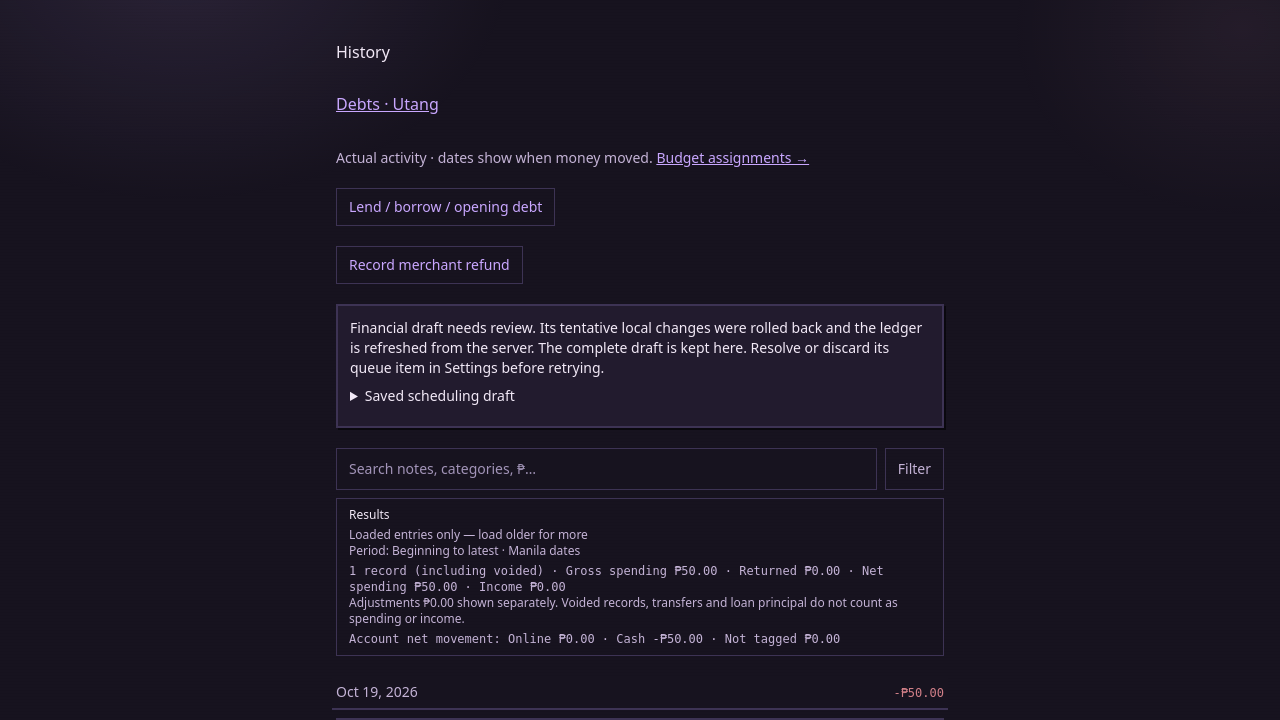
Test: keeps a rejected schedule-only draft reviewable after rollback
Click the heading "Saved scheduling draft". click: (440,396)
box: [365,386,515,405]
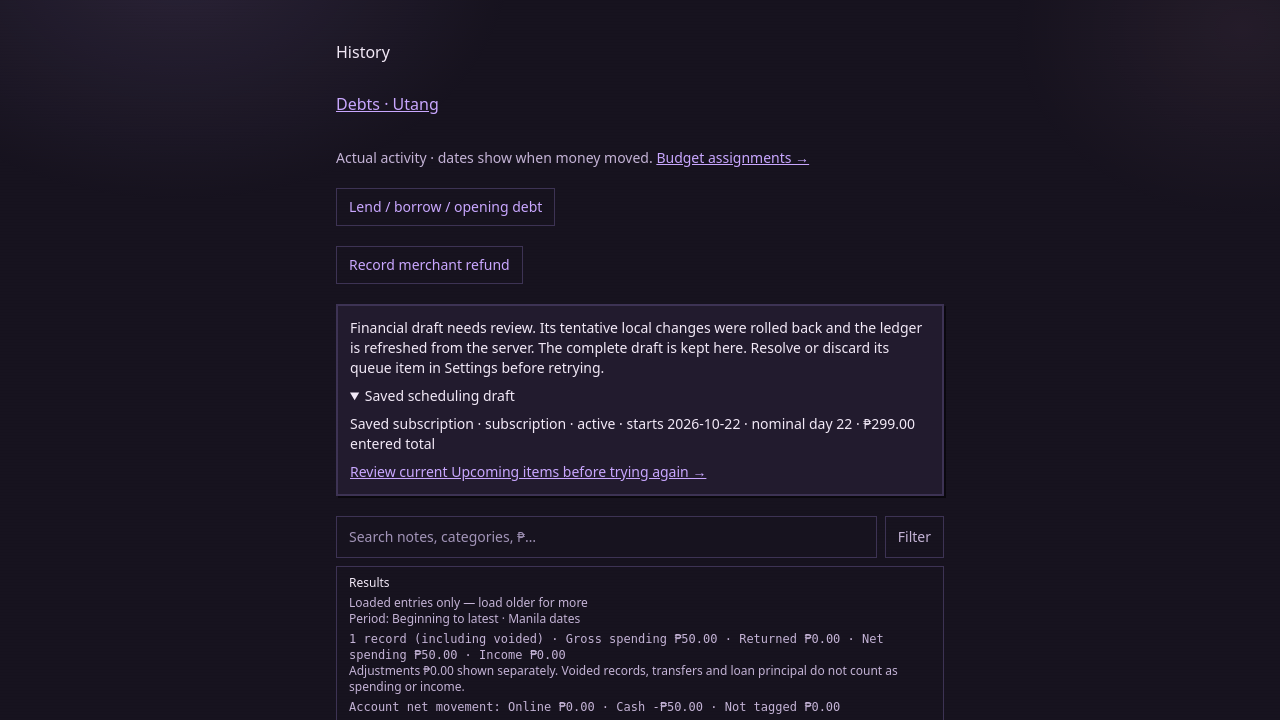
Result: the text "Saved subscription" is shown at [350,414,915,453]
